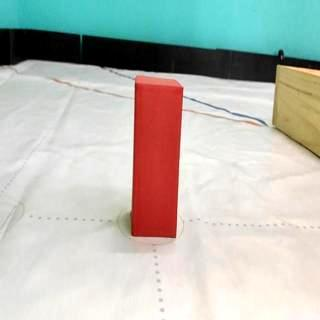redbox: (130, 76, 183, 238)
